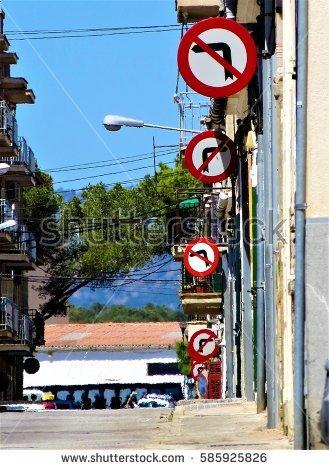no_left_turn: (176, 15, 257, 96), (183, 237, 218, 275)
no_right_turn: (185, 130, 235, 182), (188, 328, 218, 357)
